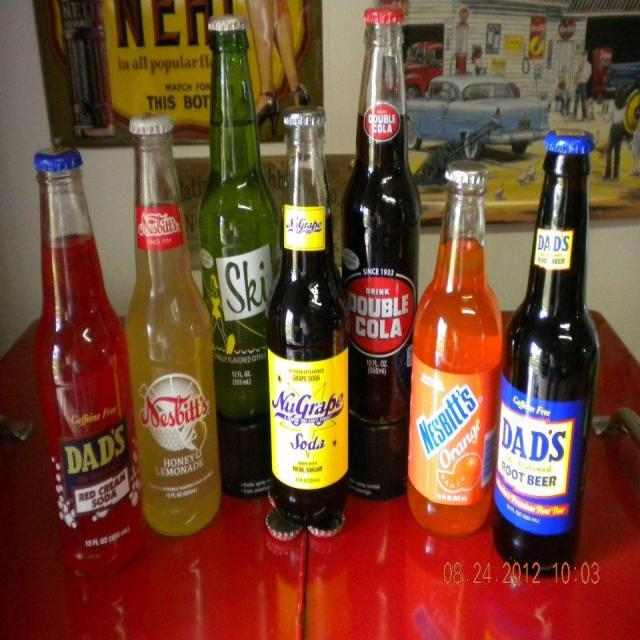glass bottle: (33, 144, 146, 578), (492, 128, 600, 580), (198, 11, 288, 500), (126, 111, 224, 539), (340, 4, 419, 504), (408, 157, 505, 538), (268, 105, 346, 540)
